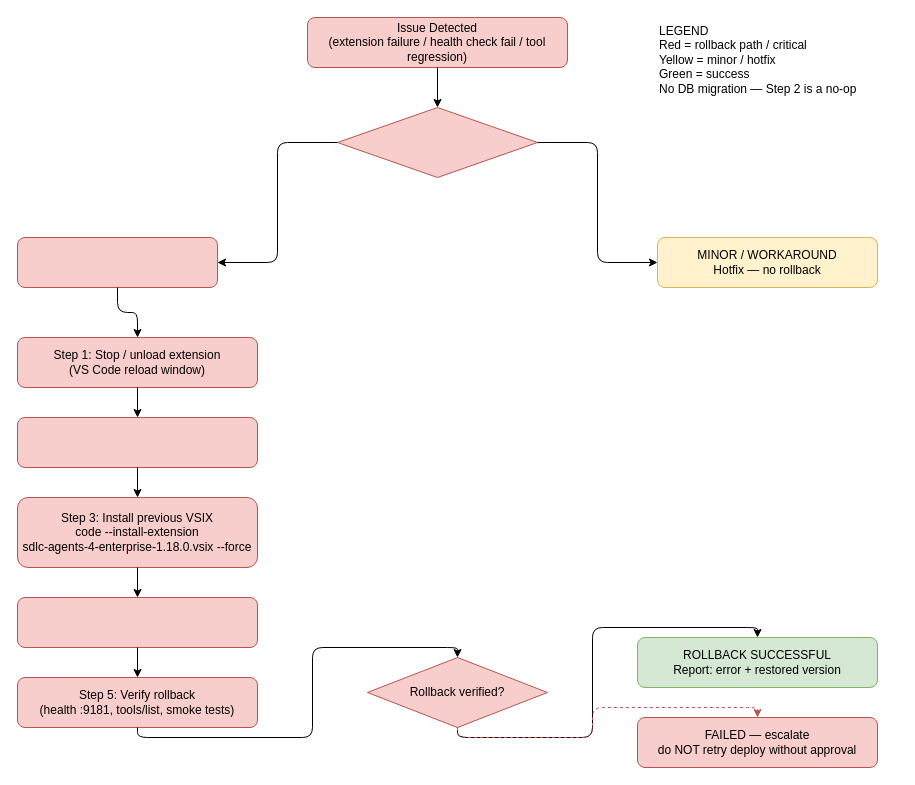
Image size: 915x785. Some labels were removed from this diagram. Each missing label, with the centre of its shape:
"CRITICAL Immediate rollback" belongs at (117,262).
"Severity Assessment" belongs at (437,142).
"Step 2: Database rollback (NONE — no DB change)" belongs at (137,442).
"Step 4: Restore configuration (settings, credentials)" belongs at (137,622).
